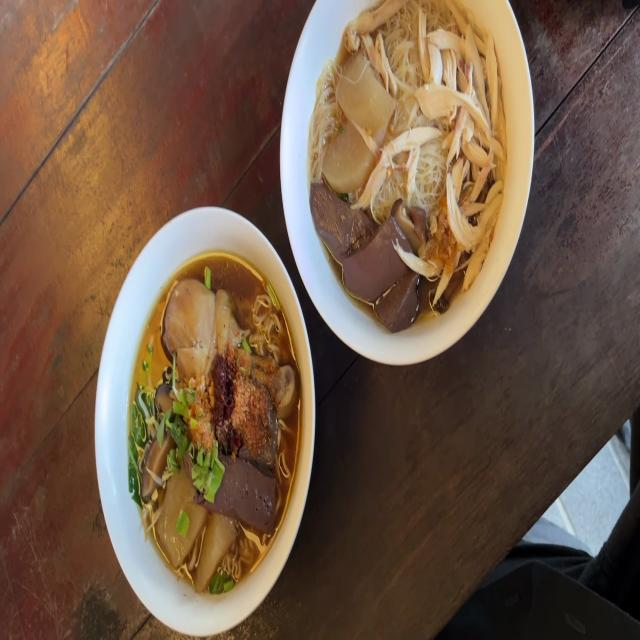noodle: (309, 0, 513, 323), (124, 256, 303, 594)
